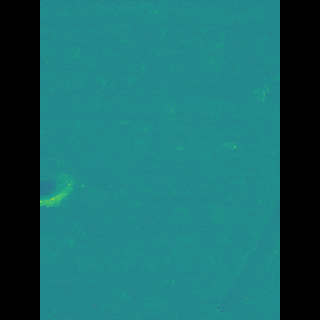Loch: (199, 184, 250, 320), (68, 167, 101, 215)
